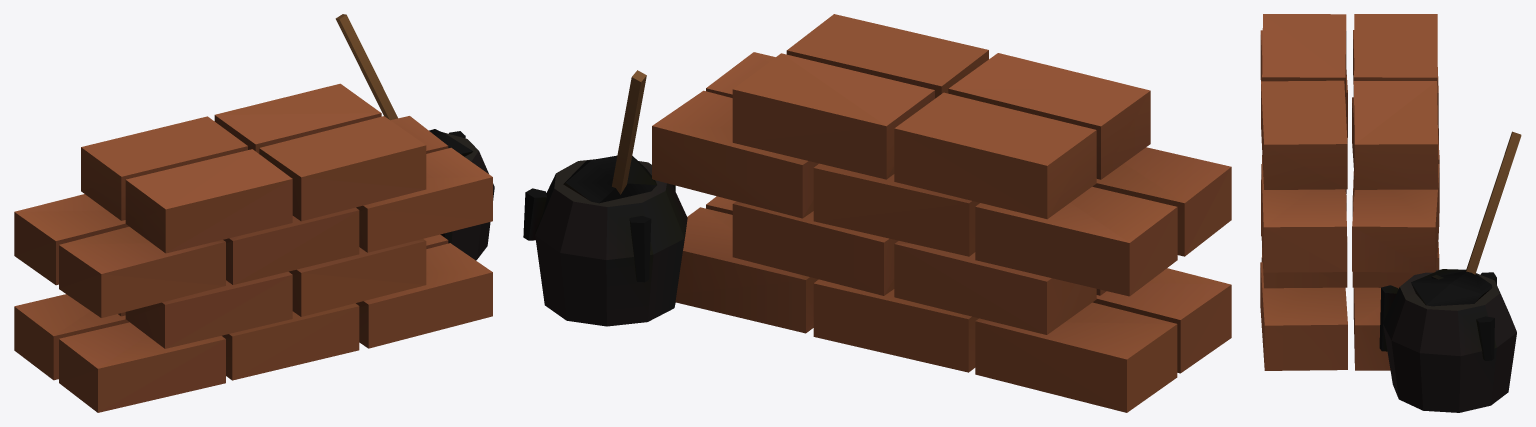
The picture shows the model from 3 angles, left to right: view 1: azimuth 30°, elevation 25°; view 2: azimuth 150°, elevation 25°; view 3: azimuth 270°, elevation 25°; orthographic projection. The views are drawn at different scales.
Parts seen in each view (by area): view 1: base; view 2: base; view 3: base.
Part boxes in pixels (bbox=[...]): base: bbox=[14, 14, 494, 412]; base: bbox=[523, 14, 1231, 412]; base: bbox=[1260, 14, 1521, 412].
Size of the model in its own units: 0.6816 by 0.3035 by 0.3132.
